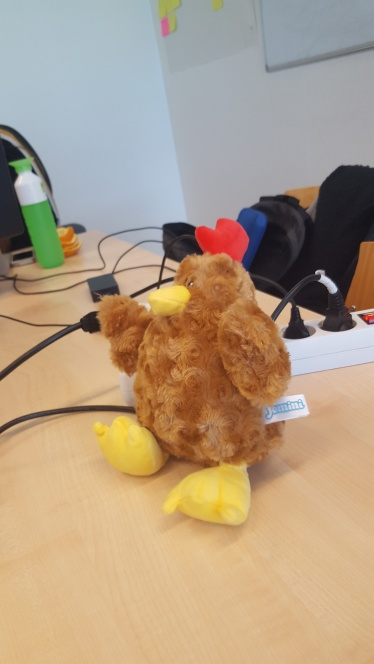chicken_right: (95, 218, 293, 524)
